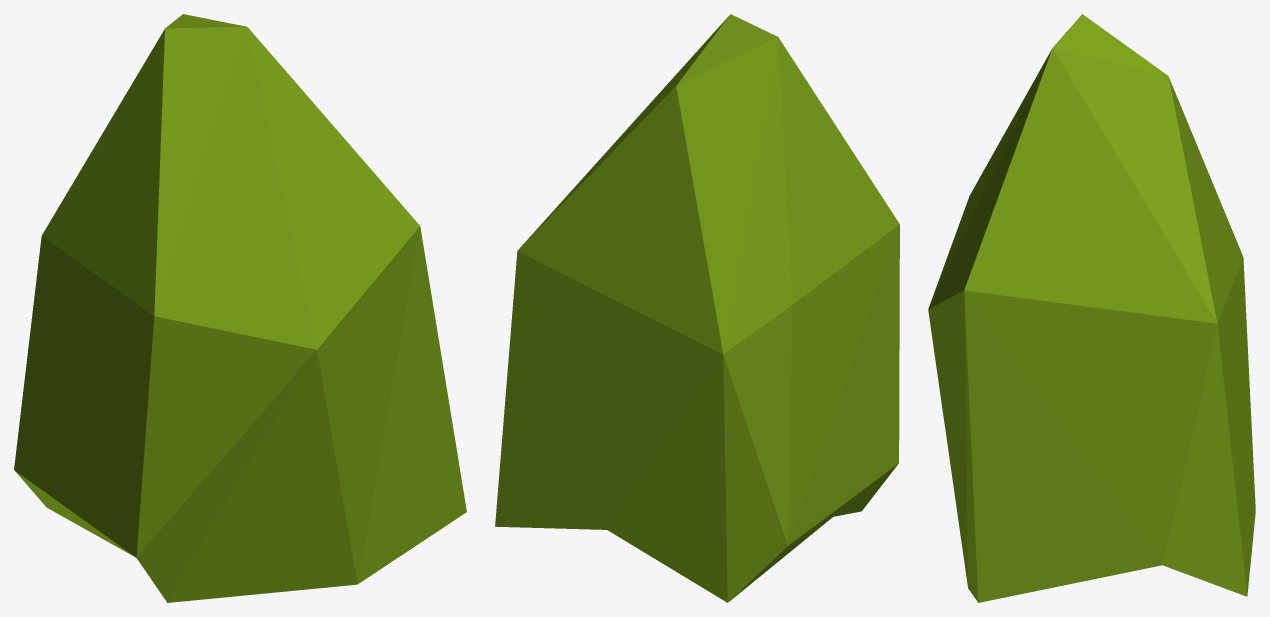
Rendered from tree-summer-leaves-7-051.glb.
3 renders of one model, left to right at view 1: azimuth 30°, elevation 25°; view 2: azimuth 150°, elevation 25°; view 3: azimuth 270°, elevation 25°, orthographic. The views are drawn at different scales.
Parts seen in each view (by area): view 1: TREE 7_300; view 2: TREE 7_300; view 3: TREE 7_300.
Part boxes in pixels (left/top/right/bottom): TREE 7_300: left=14, top=14, right=466, bottom=602; TREE 7_300: left=495, top=14, right=899, bottom=602; TREE 7_300: left=928, top=14, right=1255, bottom=602.
Size of the model in its own units: 0.7087 by 1.11 by 0.6447.
